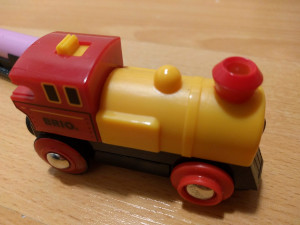brio: (7, 29, 263, 211)
